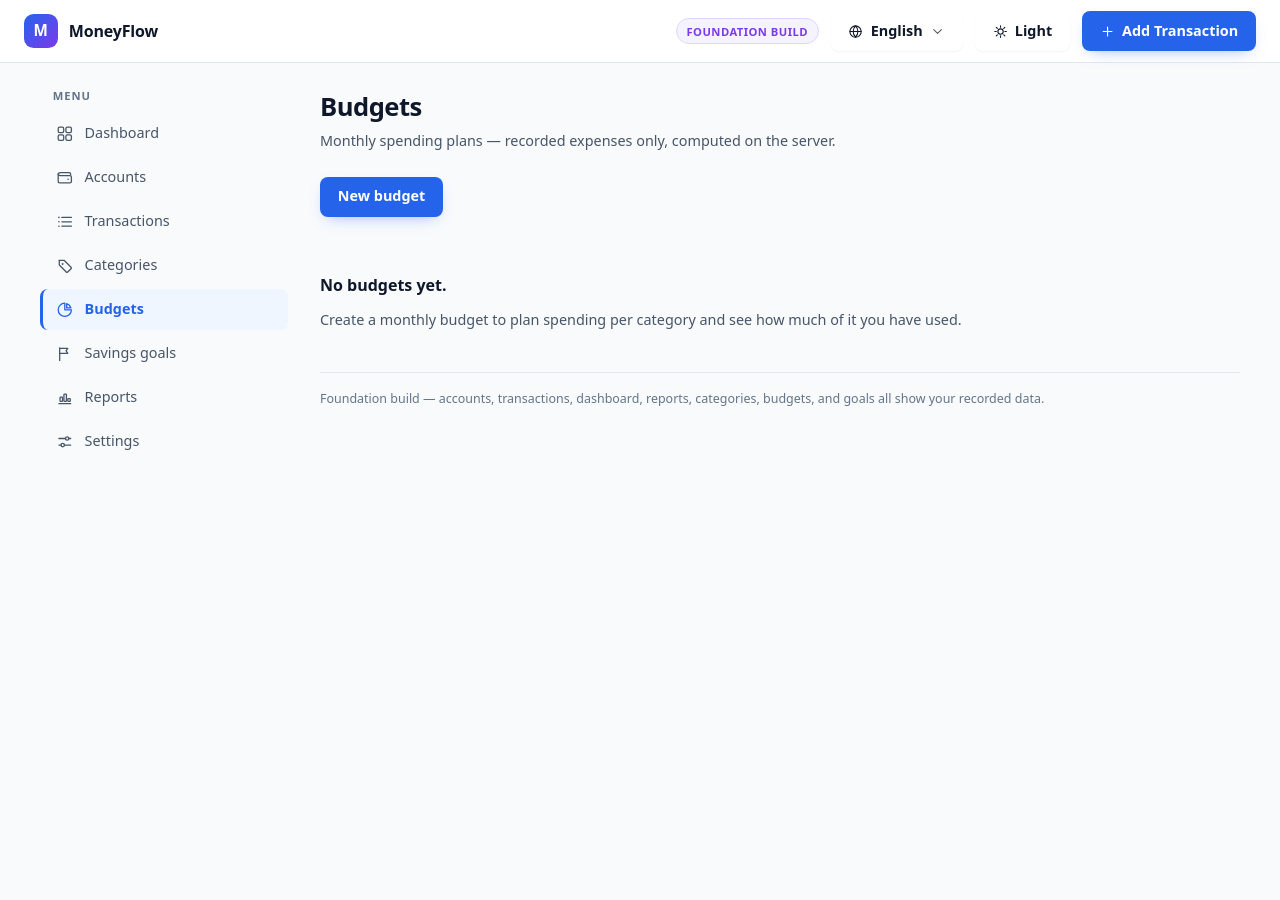
Test: budgets route (wired to the IT-9 budget endpoints) › surfaces a server rejection (overlap rule) above the form
This screenshot has width=1280, height=900.
Click the button "New budget". click: (382, 196)
box: [320,176,443,216]
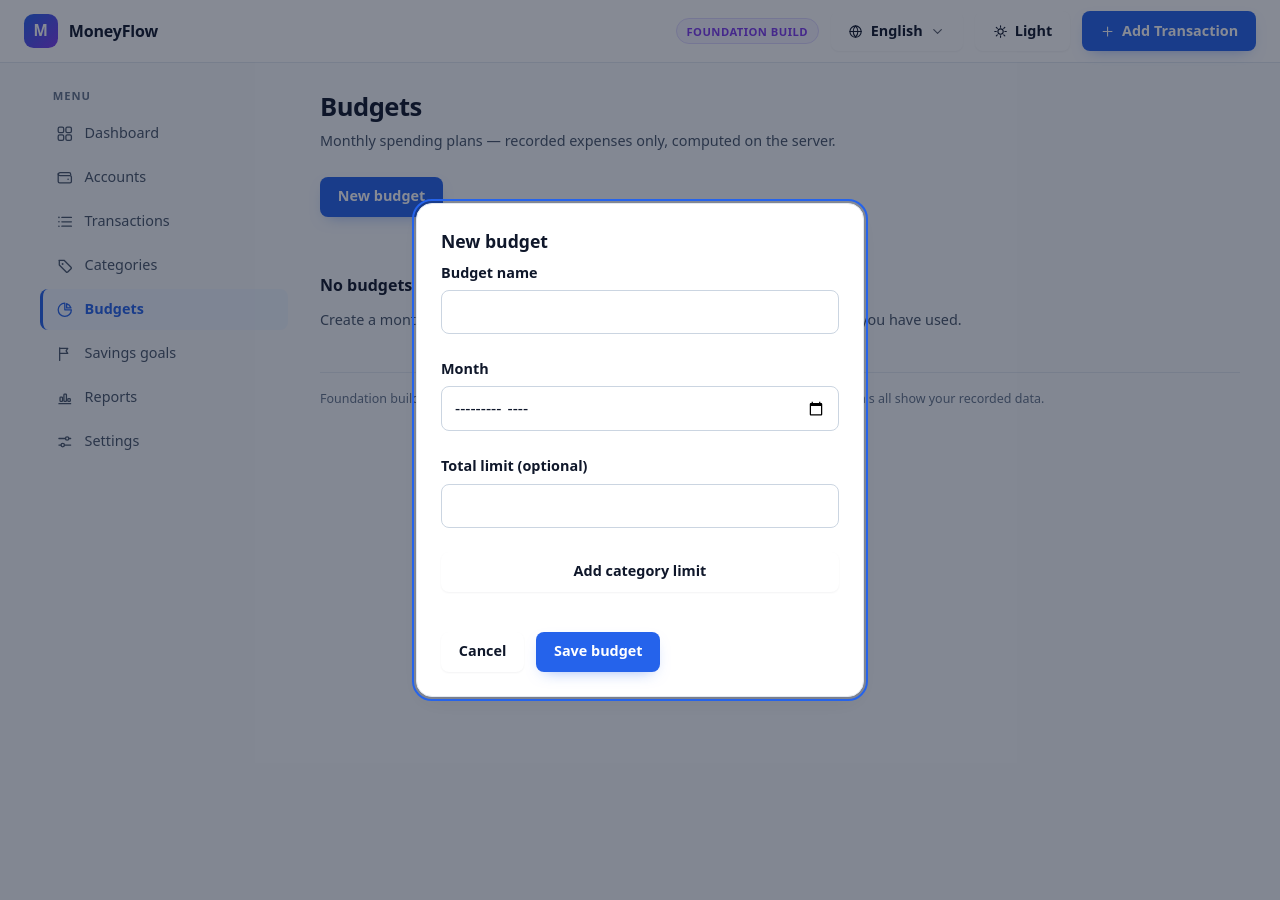
Type "Plan" into the field labelled "Budget name". click: (640, 312)
box: [441,290,839,334]
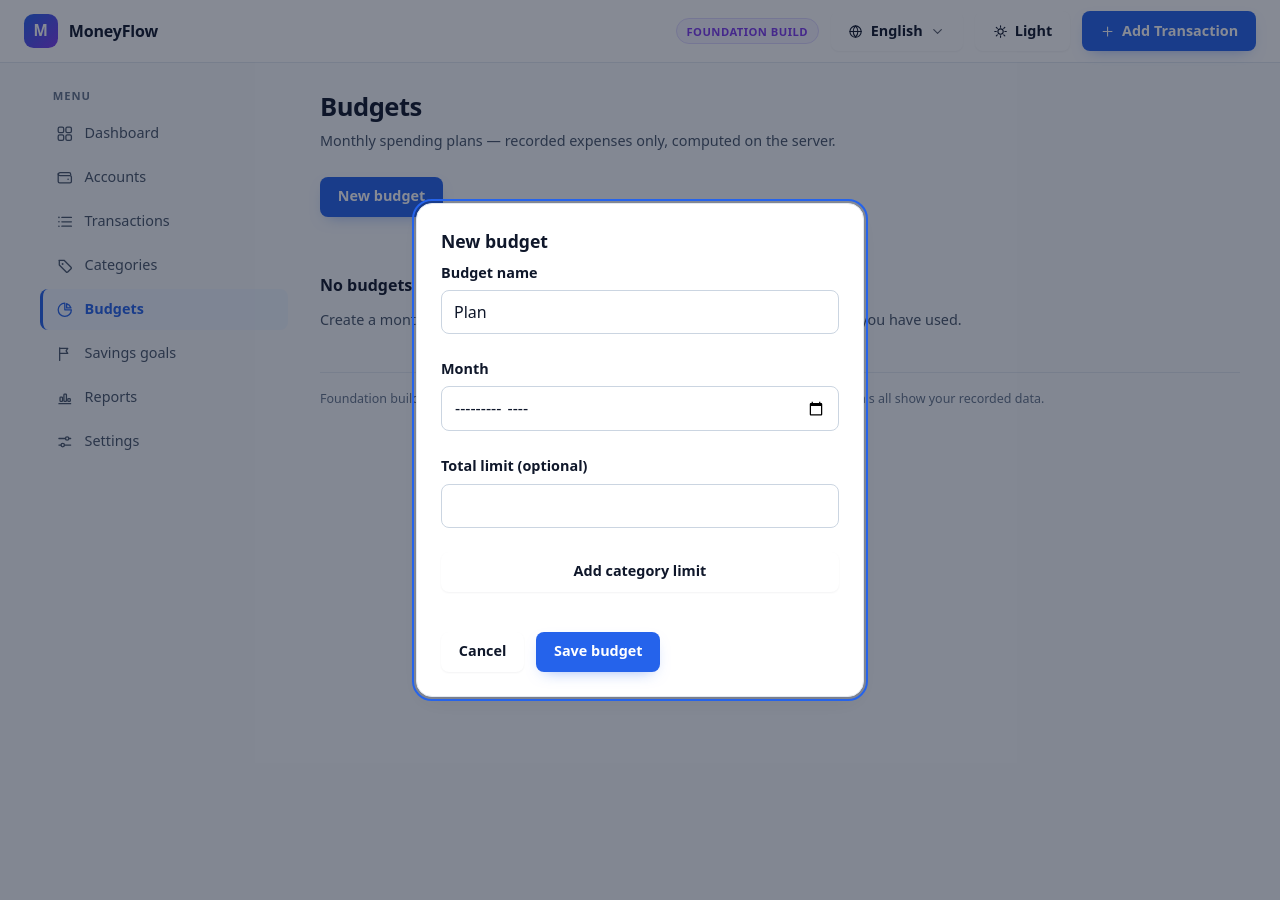
Type "2026-10" into the field labelled "Month". click: (640, 409)
box: [441,386,839,431]
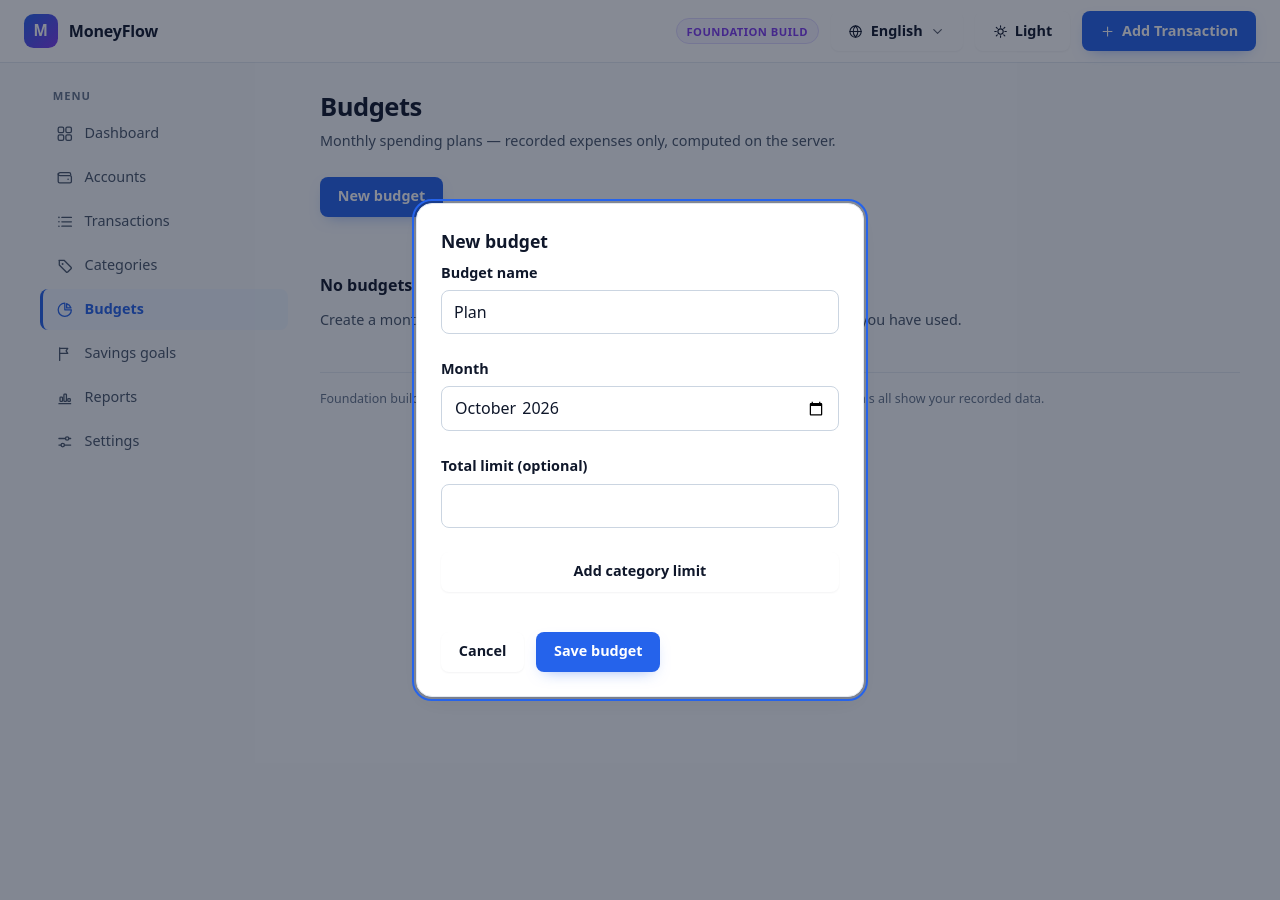
Type "100" into the field labelled "Total limit (optional)". click: (640, 506)
box: [441,484,839,528]
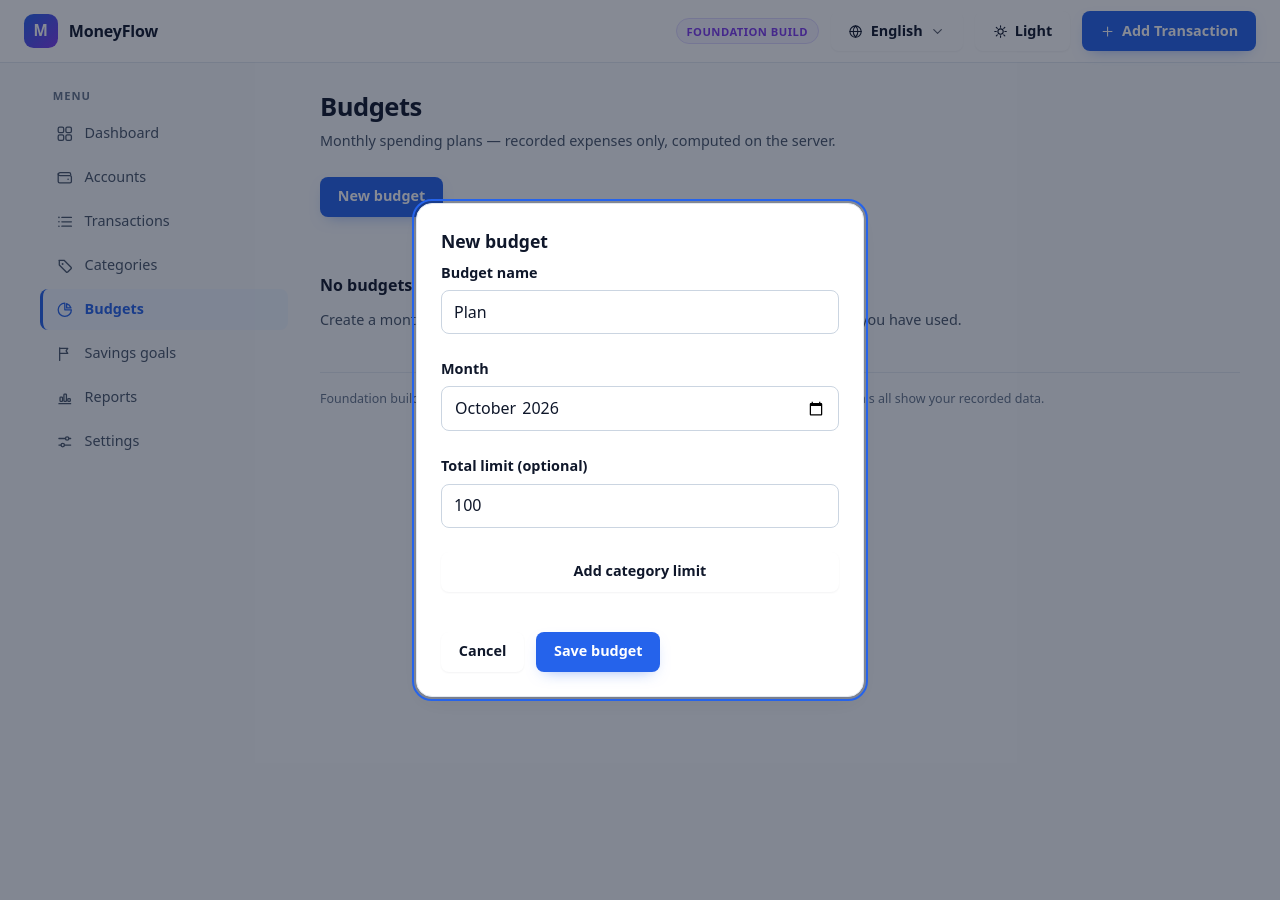
Click the button "Save budget". click: (598, 652)
box: [536,632,660,672]
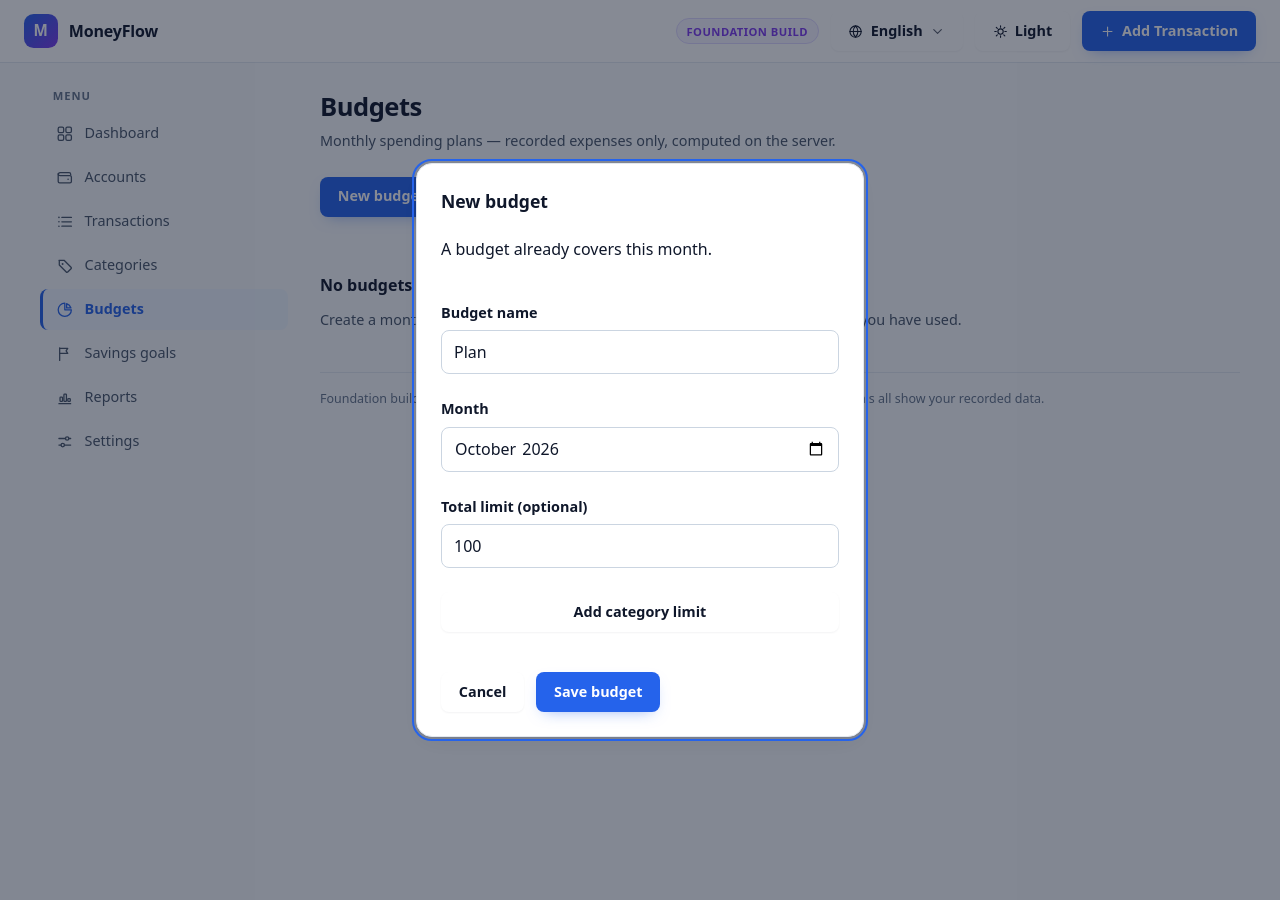
Expected: the button "Save budget" is shown, [536,672,660,712]
Expected: the message reads "A budget already covers this month.", [441,238,712,260]
